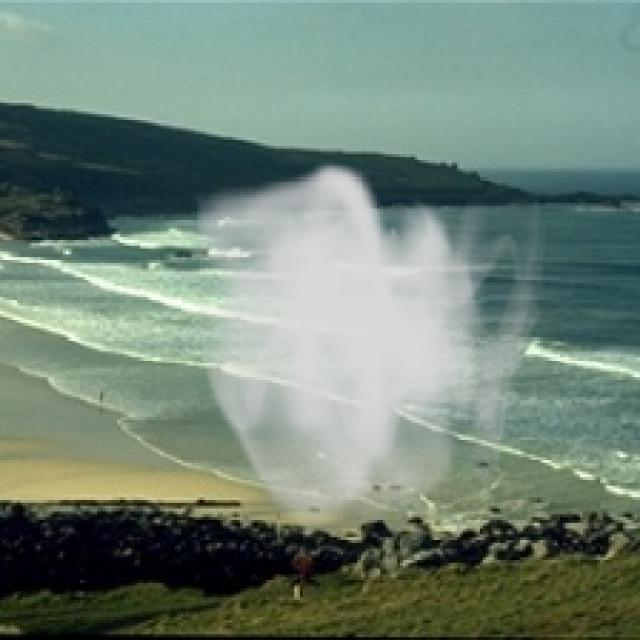Smoke: (186, 160, 548, 537)
